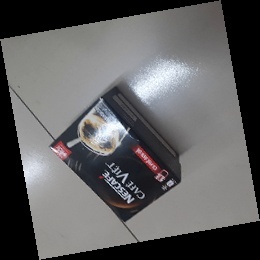CF Viet: (47, 86, 182, 225)
